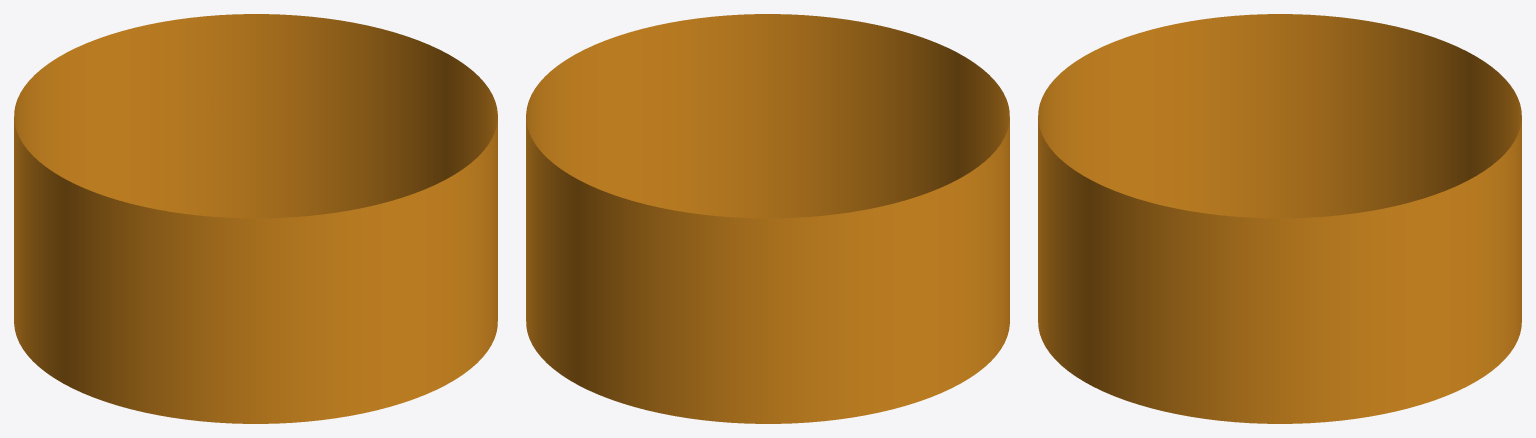
The model's file is SM_FX_Glow_Ring_01.fbx.
3 views of the same model, side by side, from view 1: azimuth 30°, elevation 25°; view 2: azimuth 150°, elevation 25°; view 3: azimuth 270°, elevation 25° (orthographic).
Parts seen in each view (by area): view 1: SM_FX_Glow_Ring_01; view 2: SM_FX_Glow_Ring_01; view 3: SM_FX_Glow_Ring_01.
Boxes of the visible parts, left/top/right/bottom form: SM_FX_Glow_Ring_01: left=14, top=14, right=497, bottom=423; SM_FX_Glow_Ring_01: left=526, top=14, right=1009, bottom=423; SM_FX_Glow_Ring_01: left=1038, top=14, right=1521, bottom=423.
Bounding box in the file's own units: 250 × 117 × 250.
